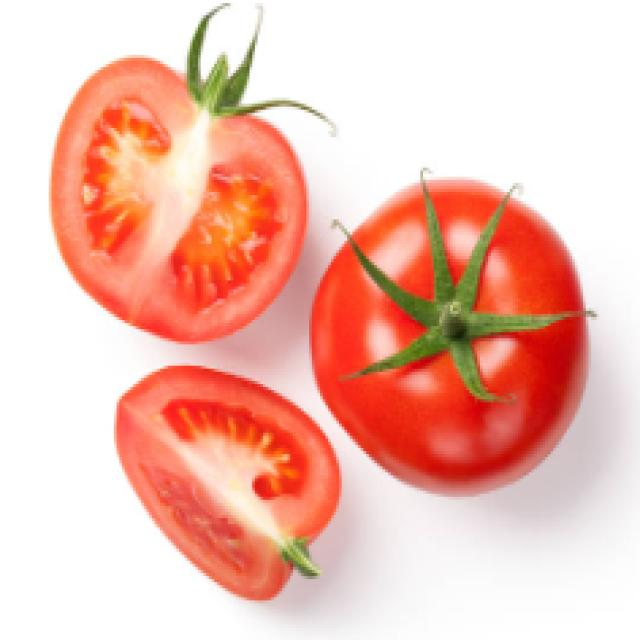Tomato: (330, 154, 598, 508), (54, 41, 308, 346), (96, 370, 345, 606)
